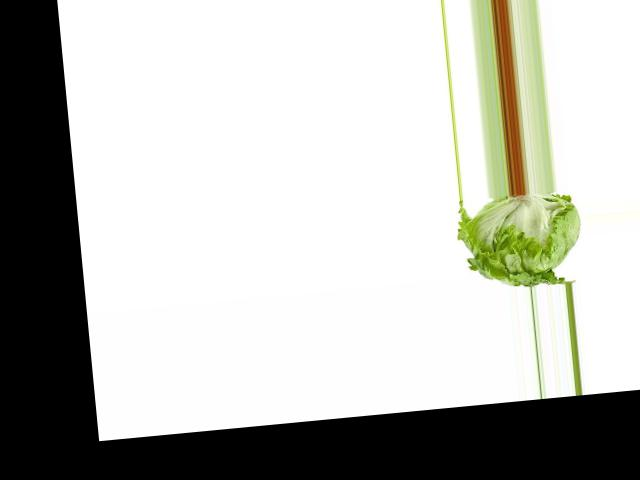lettuce: (449, 188, 589, 293)
